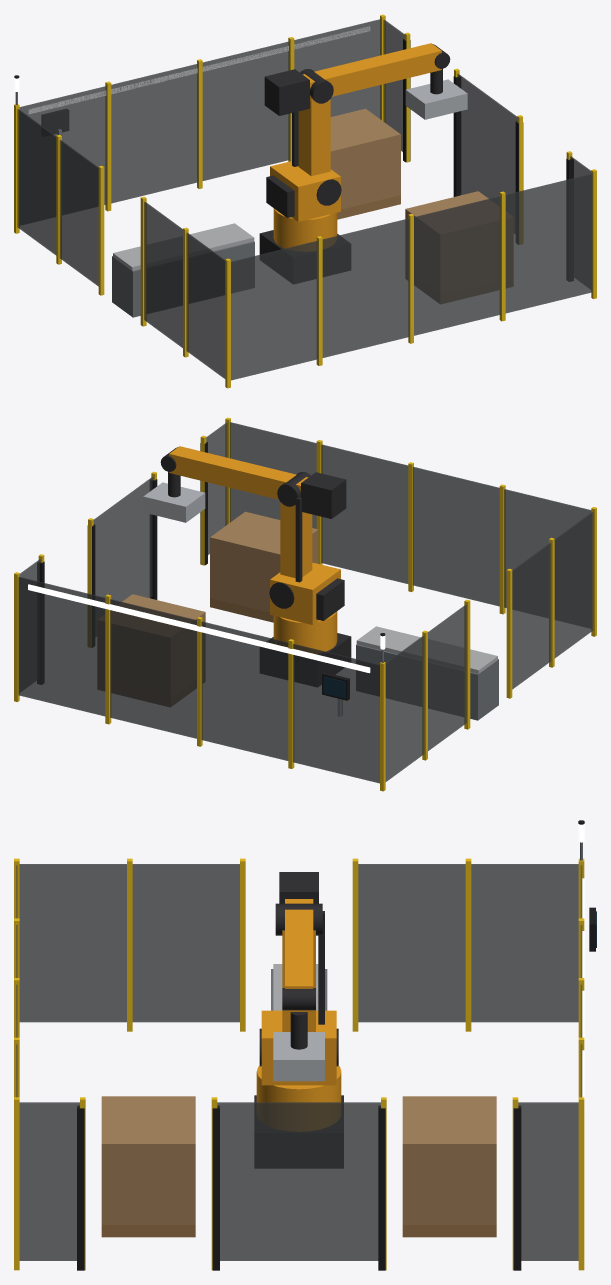
File: palletizer.glb
The picture shows the model from 3 angles, top to bottom: view 1: azimuth 30°, elevation 25°; view 2: azimuth 150°, elevation 25°; view 3: azimuth 270°, elevation 25°; orthographic projection. The views are drawn at different scales.
Visible parts, largest first — view 1: body, spin, status_band; view 2: body, spin, status_band; view 3: body, spin, status_band.
Part boxes in pixels (x1,y1,x2,y2): body: [14, 14, 596, 388]; spin: [264, 43, 467, 251]; status_band: [28, 26, 370, 113]; body: [14, 417, 596, 791]; spin: [143, 446, 346, 653]; status_band: [28, 584, 370, 673]; body: [14, 820, 596, 1270]; spin: [256, 872, 341, 1131]; status_band: [582, 878, 584, 1107].
Size of the model in its own units: 6.08 by 3 by 6.19.
